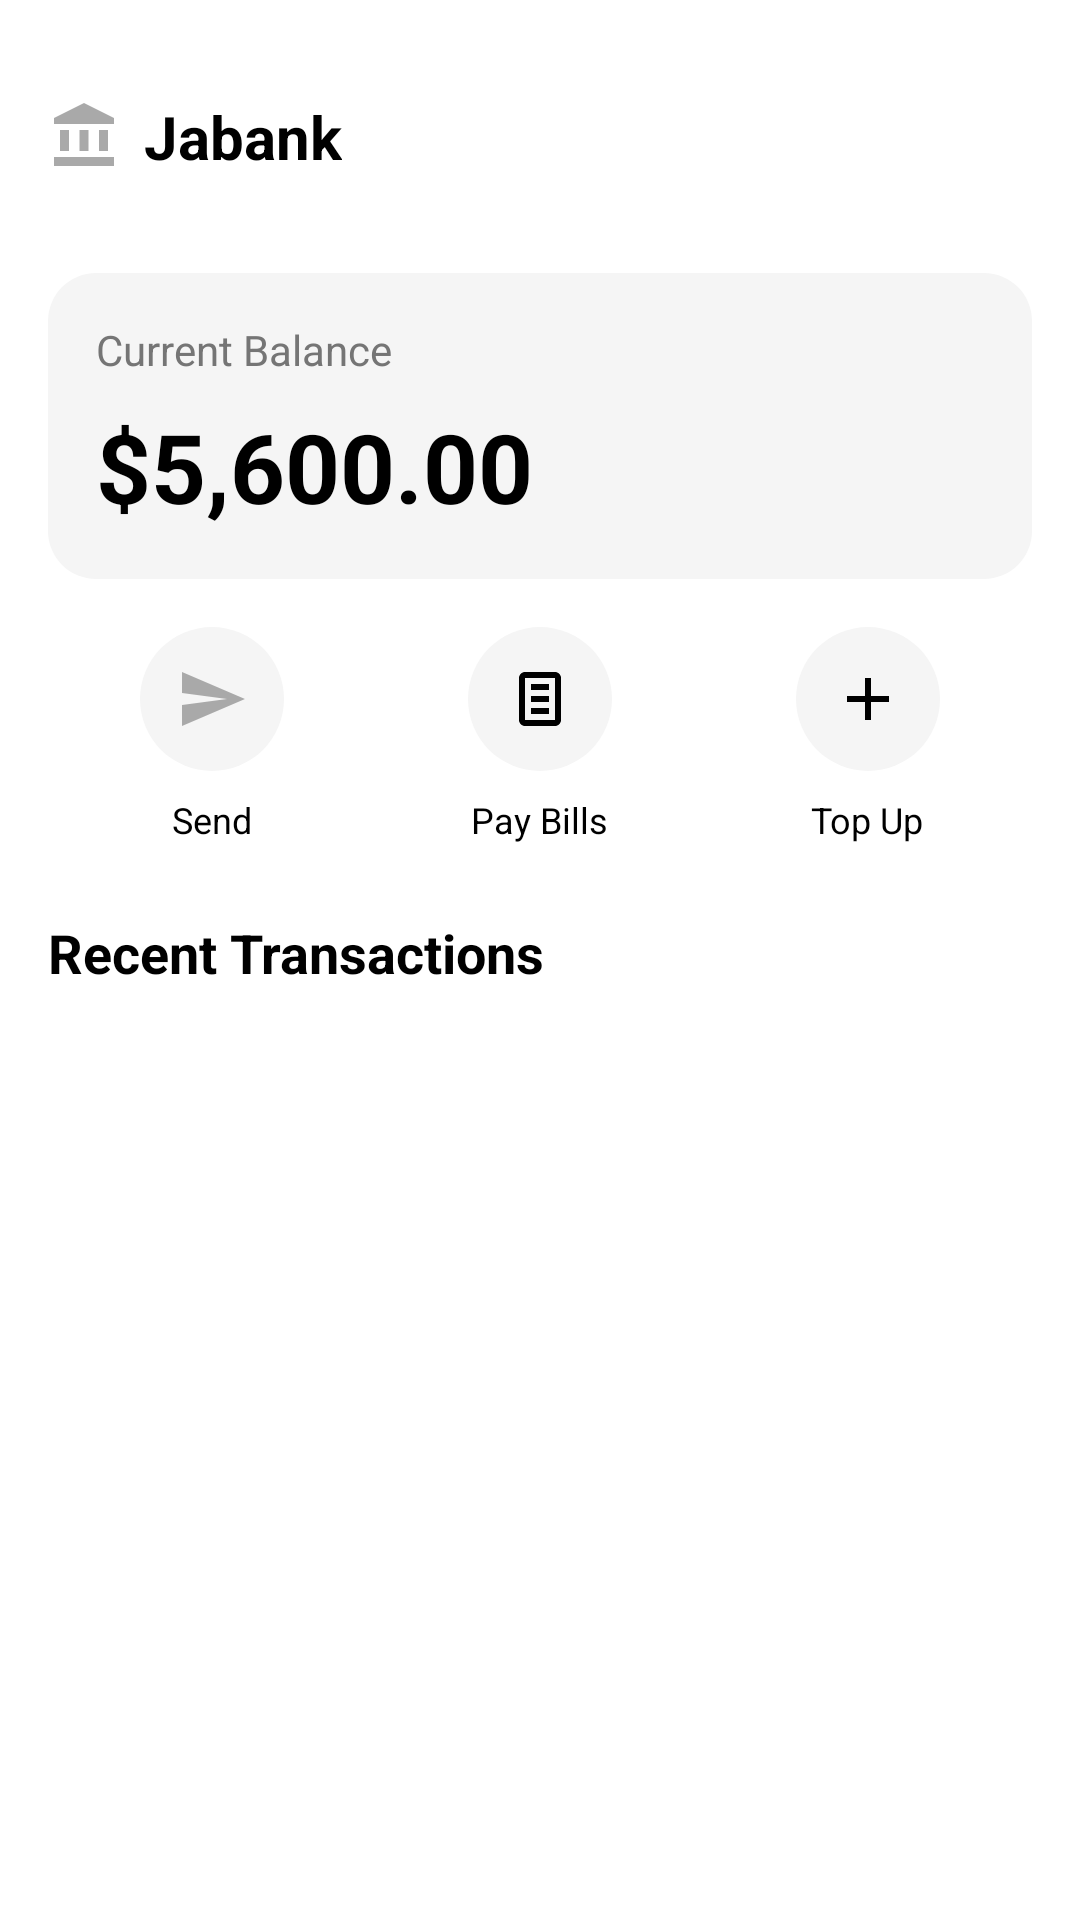

Locate icon controls on the screen. Image size 1080 × 1920, boxes as {"x1": x1, "y1": y1, "x2": x2, "y2": y2}.
Bank Icon: {"x1": 54, "y1": 103, "x2": 114, "y2": 166}
